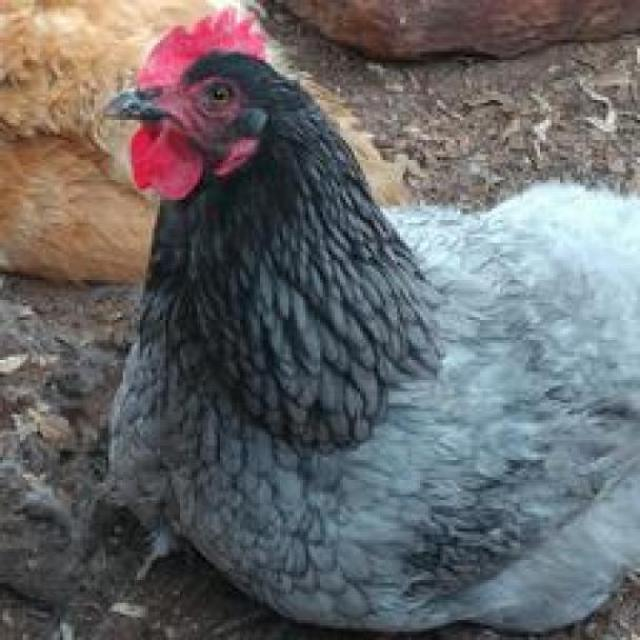Chicken: (92, 4, 640, 638)
